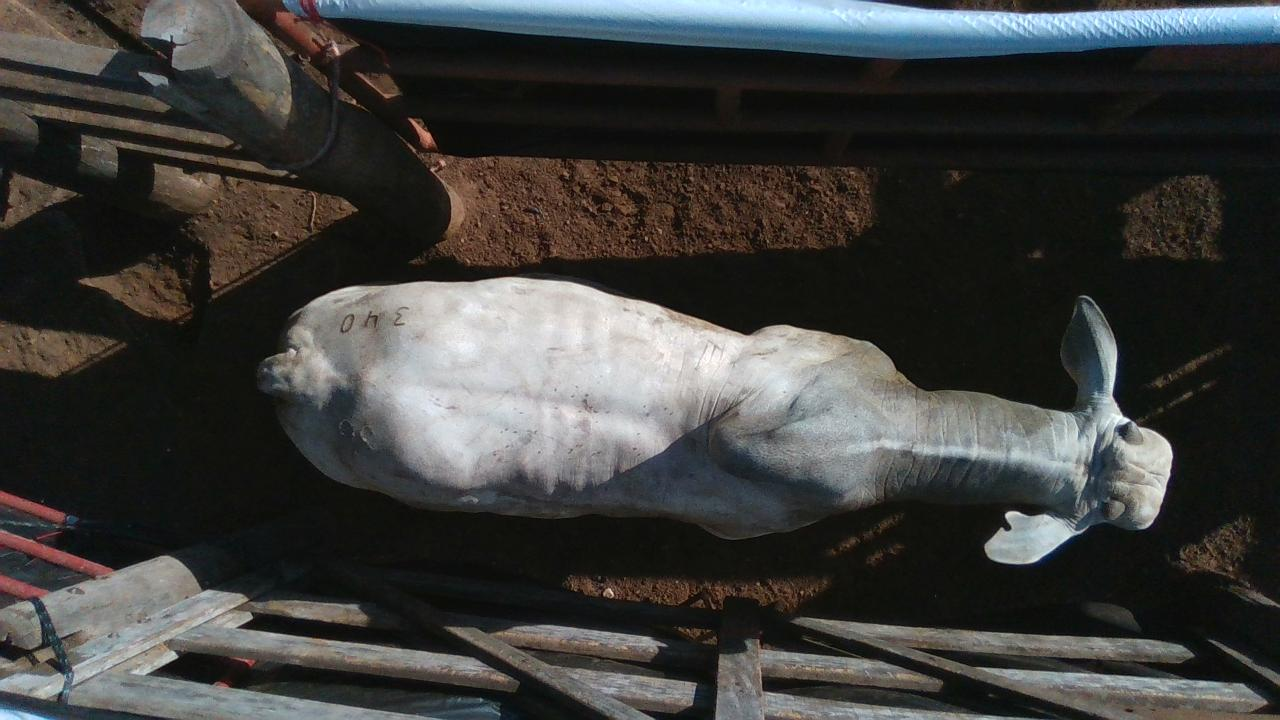cattle: (254, 273, 1174, 566)
